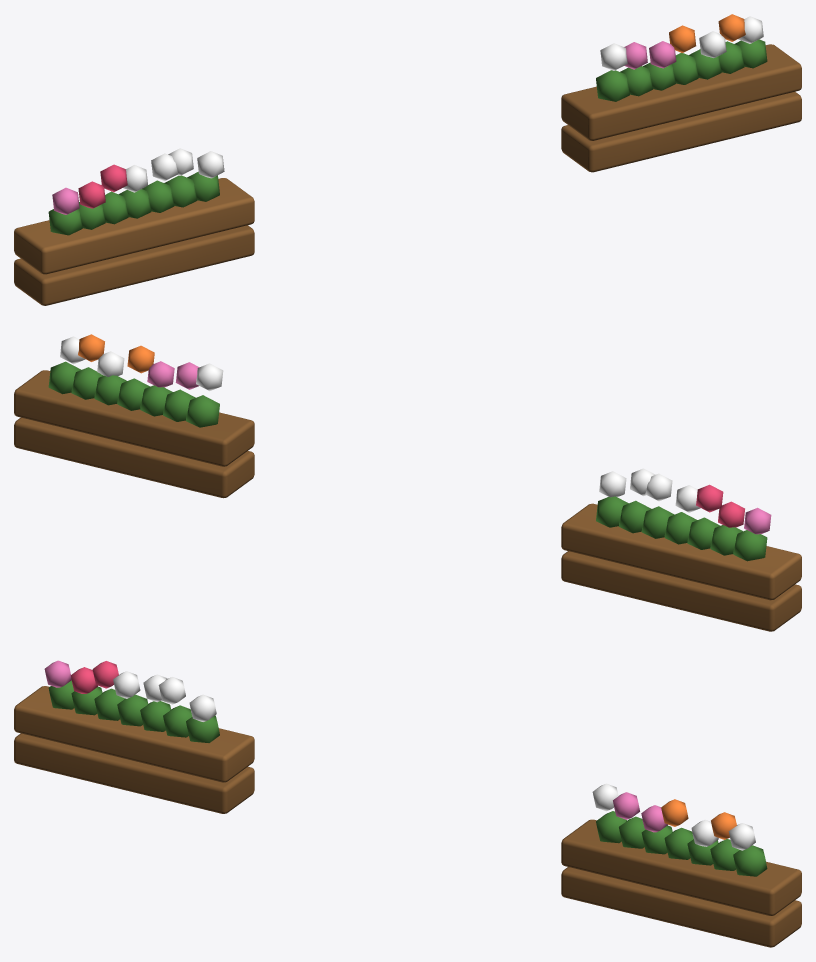
File: house_boxes.glb
3 views of the same model, one above another, from view 1: azimuth 30°, elevation 25°; view 2: azimuth 150°, elevation 25°; view 3: azimuth 330°, elevation 25° (orthographic).
Visible parts, largest first — view 1: house_boxes_main, house_boxes_flowers; view 2: house_boxes_main, house_boxes_flowers; view 3: house_boxes_main, house_boxes_flowers.
Boxes of the visible parts, left/top/right/bottom form: house_boxes_main: left=14, top=44, right=801, bottom=305; house_boxes_flowers: left=48, top=14, right=767, bottom=235; house_boxes_main: left=14, top=370, right=801, bottom=631; house_boxes_flowers: left=48, top=334, right=771, bottom=561; house_boxes_main: left=14, top=686, right=801, bottom=947; house_boxes_flowers: left=44, top=660, right=767, bottom=876.
Bounding box in the file's own units: 2.28 × 0.3318 × 0.16.
